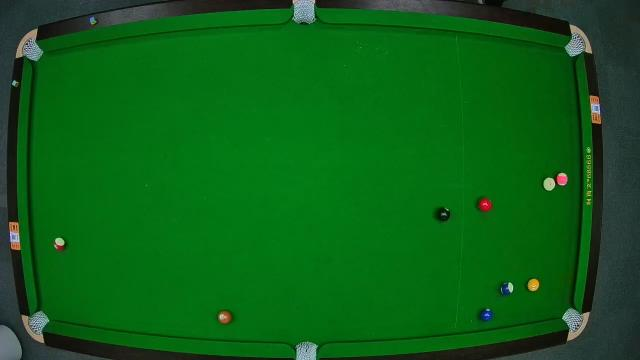bag1: (20, 40, 42, 62)
bag2: (292, 2, 316, 26)
bag3: (566, 36, 586, 58)
bag4: (29, 311, 49, 333)
bag5: (295, 340, 319, 360)
bag6: (562, 308, 582, 330)
ball0: (543, 178, 557, 190)
ball1: (526, 278, 542, 294)
ball10: (498, 281, 514, 297)
ball11: (52, 236, 68, 252)
ball12: (556, 172, 568, 186)
ball2: (480, 308, 494, 322)
ball3: (478, 197, 492, 212)
ball7: (217, 309, 233, 325)
ball8: (436, 207, 452, 222)
